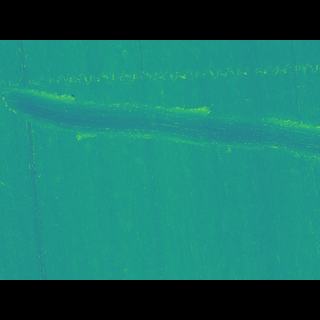Loch: (0, 104, 320, 168)
